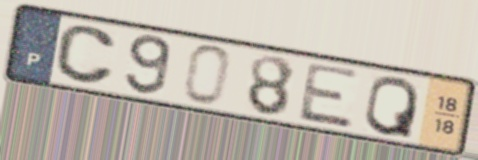0: (179, 42, 238, 108)
8: (245, 54, 296, 118)
9: (123, 33, 173, 97)
C: (52, 23, 119, 87)
E: (295, 60, 364, 131)
Q: (361, 75, 422, 141)
